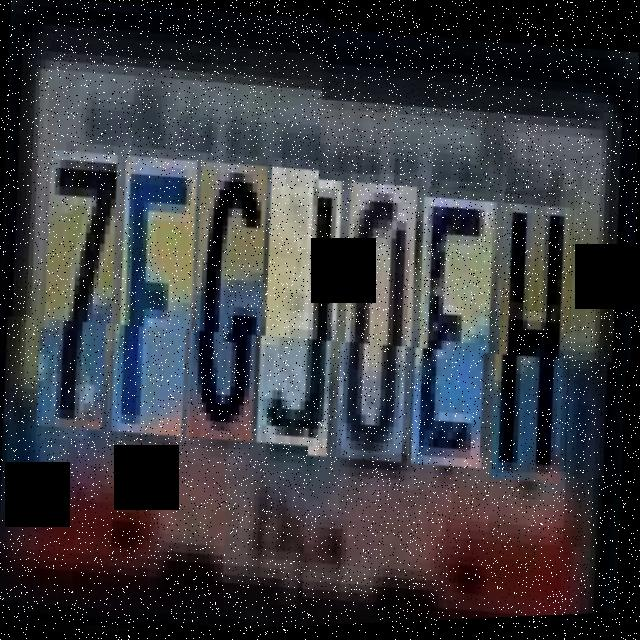0: (343, 175, 419, 459)
7: (42, 155, 118, 441)
E: (417, 189, 497, 464)
F: (117, 161, 198, 445)
G: (192, 165, 268, 450)
H: (497, 193, 577, 479)
J: (263, 169, 343, 455)
